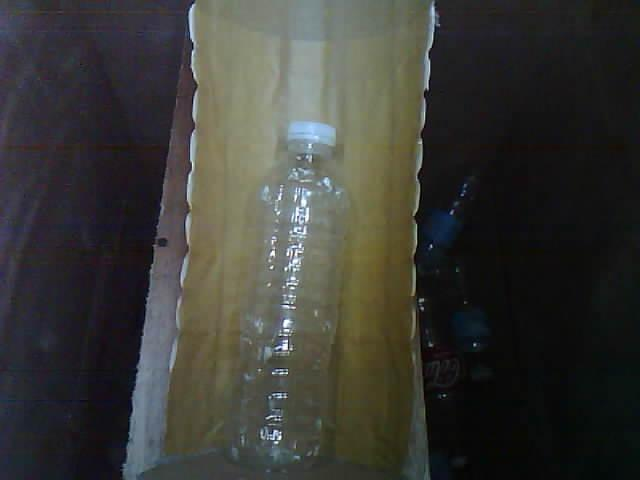small_bottle: (222, 111, 371, 480)
